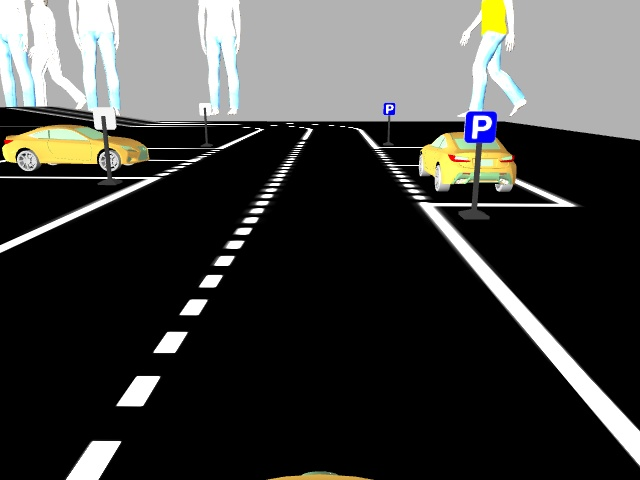Parking: (463, 110, 497, 142), (381, 101, 396, 115)
